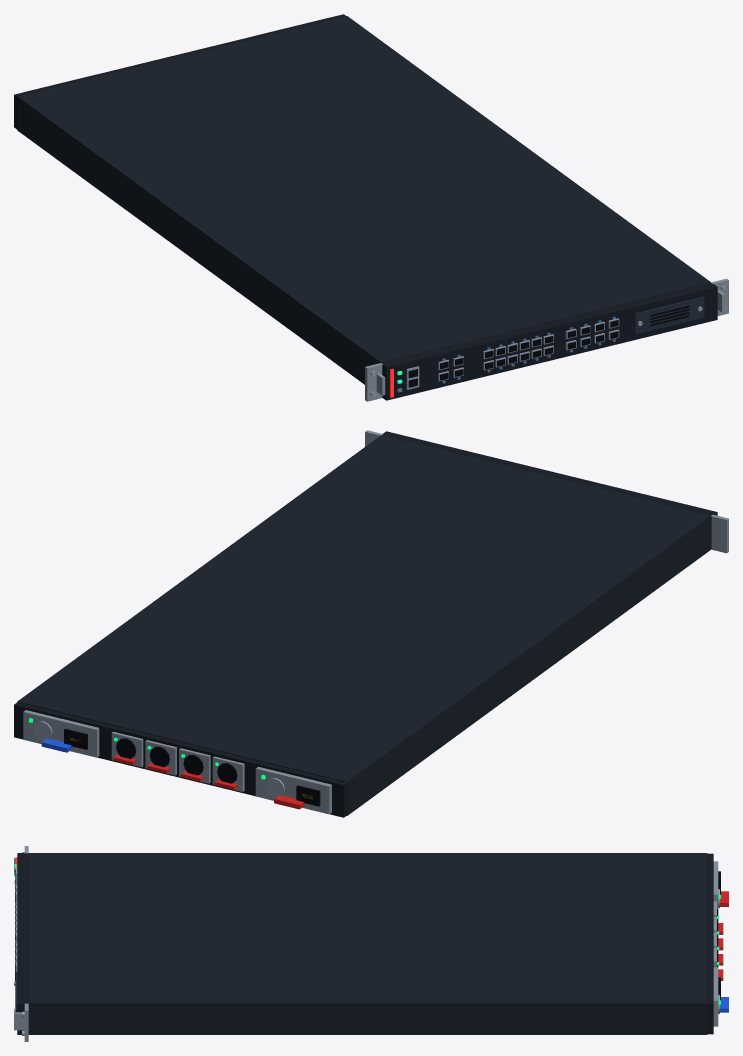
Rendered from generic_firewall_1u.glb.
The picture shows the model from 3 angles, top to bottom: view 1: azimuth 30°, elevation 25°; view 2: azimuth 150°, elevation 25°; view 3: azimuth 270°, elevation 25°; orthographic projection. The views are drawn at different scales.
Parts seen in each view (by area): view 1: BATCH_MAT_CHASSIS_BODY, BATCH_MAT_FACEPLATE, BATCH_MAT_CAVITY_DARK, BATCH_MAT_PORT_SHIELD, BATCH_MAT_NGFW_SUBCARD, BATCH_MAT_RACK_EAR; view 2: BATCH_MAT_CHASSIS_BODY, BATCH_MAT_FACEPLATE, BATCH_MAT_RACK_EAR, BATCH_MAT_CAVITY_DARK; view 3: BATCH_MAT_CHASSIS_BODY, BATCH_MAT_FACEPLATE, BATCH_MAT_RACK_EAR, BATCH_MAT_PORT_SHIELD.
Part boxes in pixels (x1=…): BATCH_MAT_CHASSIS_BODY: x1=17, y1=16, x2=710, y2=384; BATCH_MAT_FACEPLATE: x1=14, y1=14, x2=717, y2=400; BATCH_MAT_CAVITY_DARK: x1=408, y1=305, x2=689, y2=387; BATCH_MAT_PORT_SHIELD: x1=370, y1=285, x2=726, y2=397; BATCH_MAT_NGFW_SUBCARD: x1=634, y1=296, x2=704, y2=334; BATCH_MAT_RACK_EAR: x1=25, y1=17, x2=728, y2=401; BATCH_MAT_CHASSIS_BODY: x1=17, y1=435, x2=710, y2=815; BATCH_MAT_FACEPLATE: x1=14, y1=431, x2=717, y2=817; BATCH_MAT_RACK_EAR: x1=23, y1=430, x2=728, y2=814; BATCH_MAT_CAVITY_DARK: x1=64, y1=728, x2=320, y2=806; BATCH_MAT_CHASSIS_BODY: x1=28, y1=853, x2=707, y2=1034; BATCH_MAT_FACEPLATE: x1=17, y1=853, x2=713, y2=1034; BATCH_MAT_RACK_EAR: x1=14, y1=846, x2=718, y2=1041; BATCH_MAT_PORT_SHIELD: x1=14, y1=852, x2=719, y2=1035.
Bounding box in the file's own units: 0.4826 × 0.0435 × 0.885.
